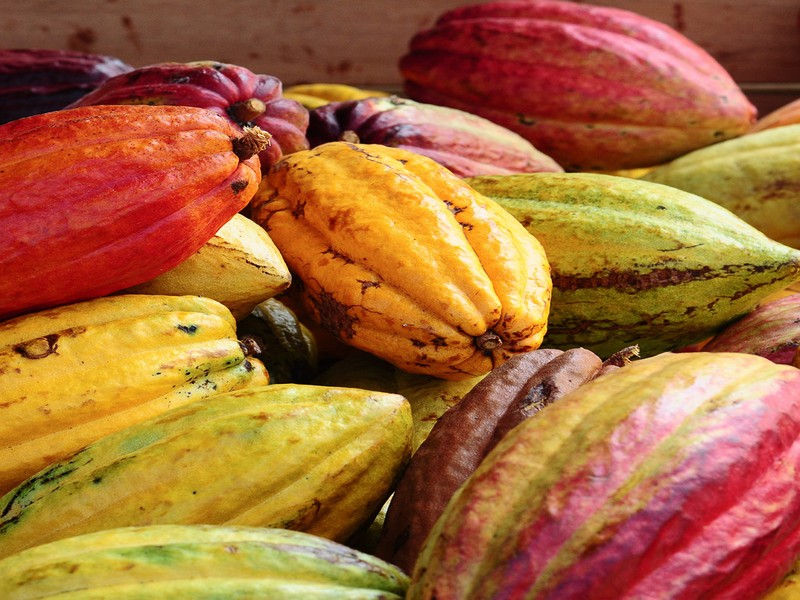Cacaopod: (258, 137, 552, 383)
